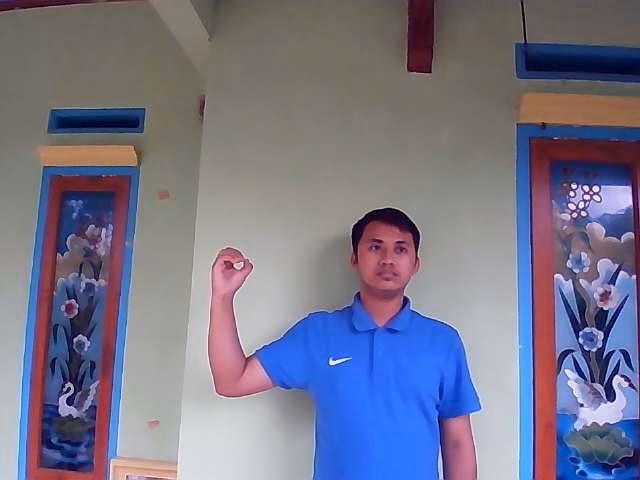O: (210, 246, 253, 296)
